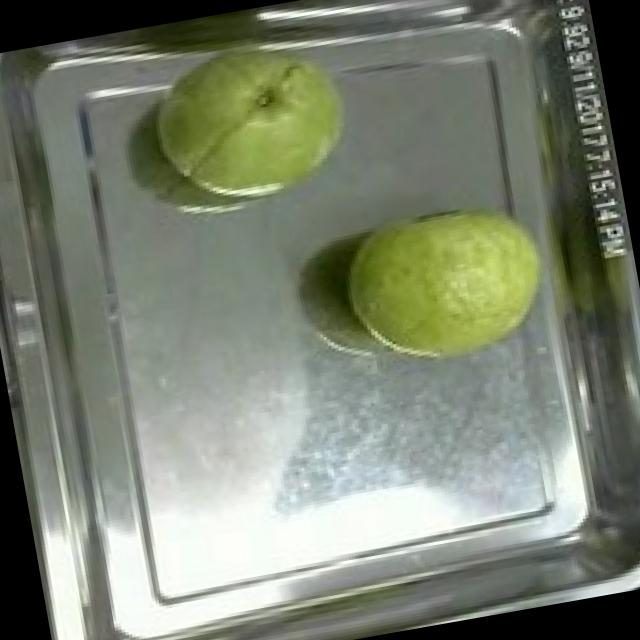Fruit: (130, 4, 378, 228), (324, 178, 568, 386)
